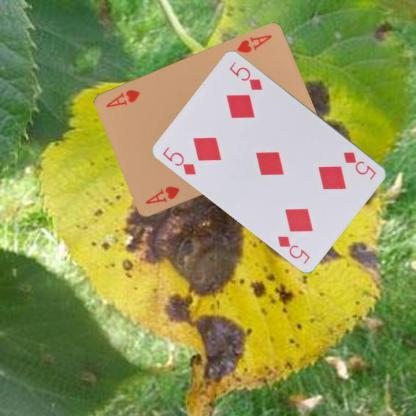5d: (341, 149, 378, 181), (160, 145, 198, 176)
Ah: (234, 32, 273, 55), (142, 184, 182, 206)
